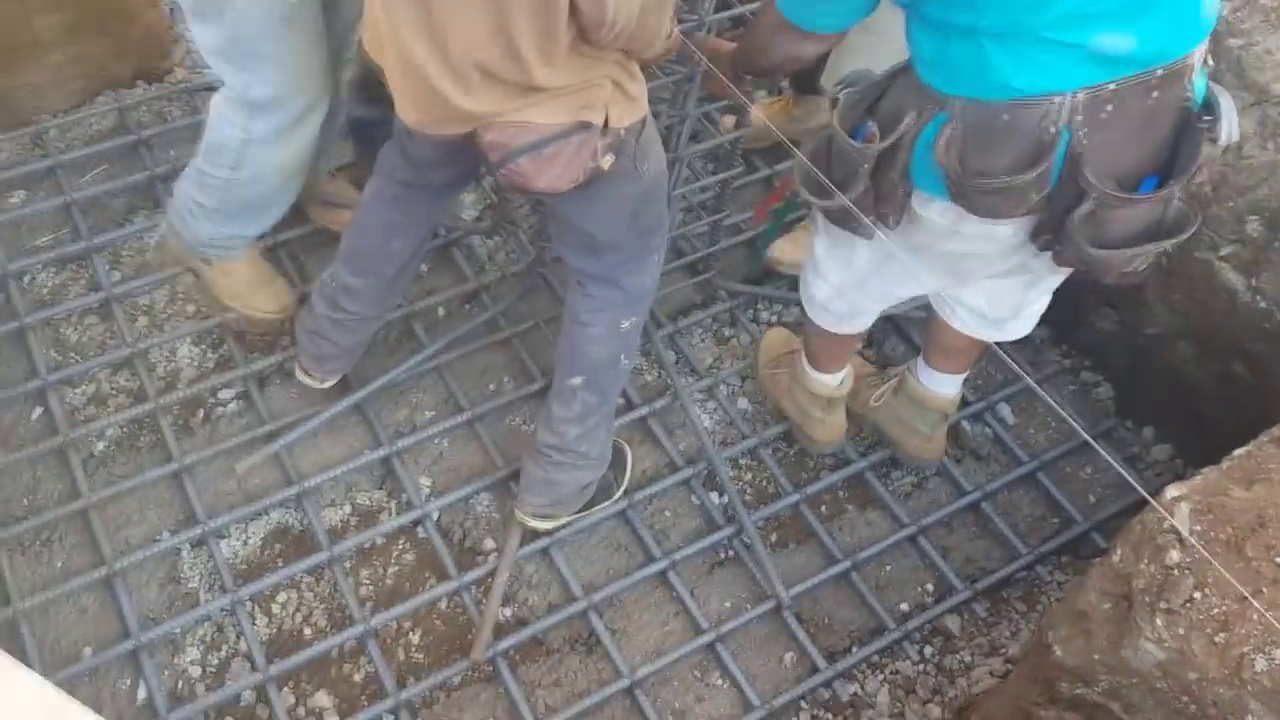person: (733, 0, 1236, 471), (294, 0, 684, 541), (134, 0, 346, 401)
